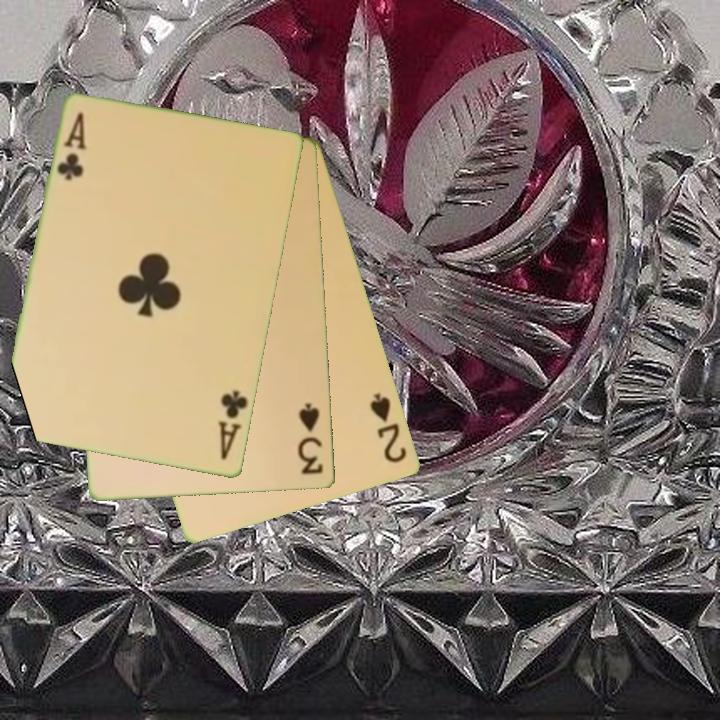2s: (367, 389, 411, 466)
3s: (295, 400, 327, 477)
Ac: (215, 388, 251, 463), (54, 108, 89, 184)
